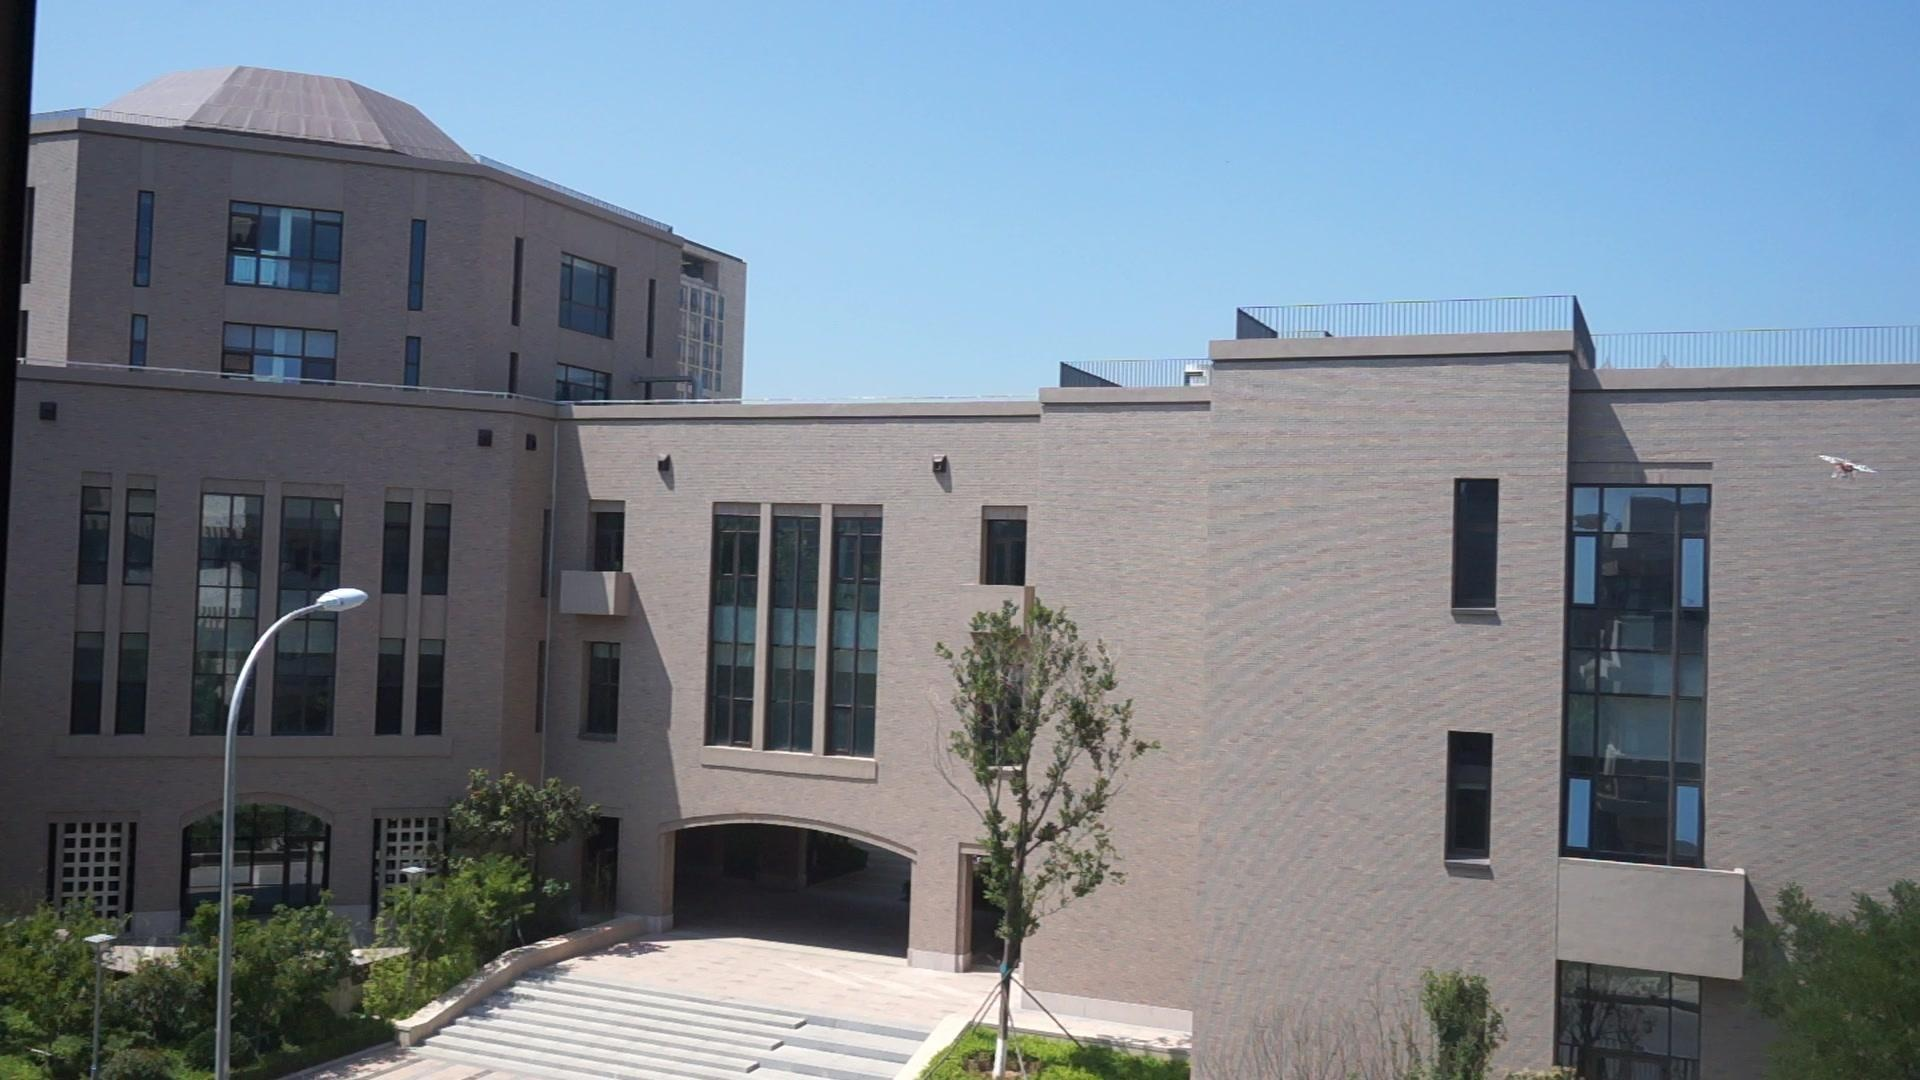UAV: (1818, 454, 1879, 481)
